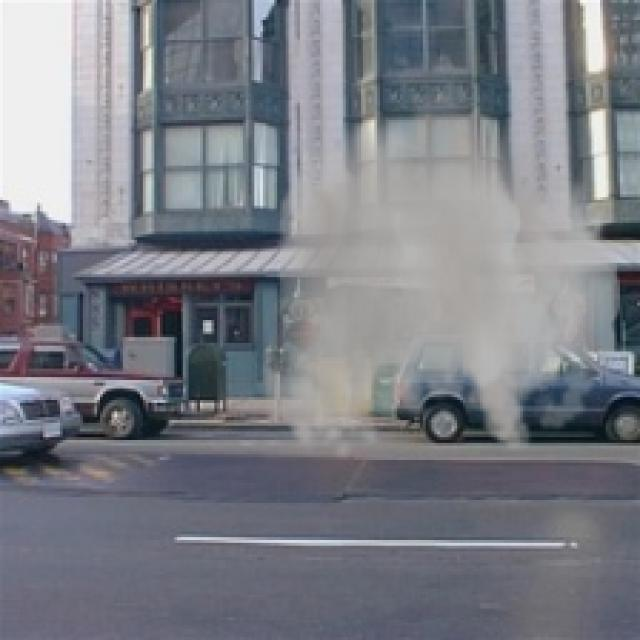smoke: (260, 68, 620, 463)
